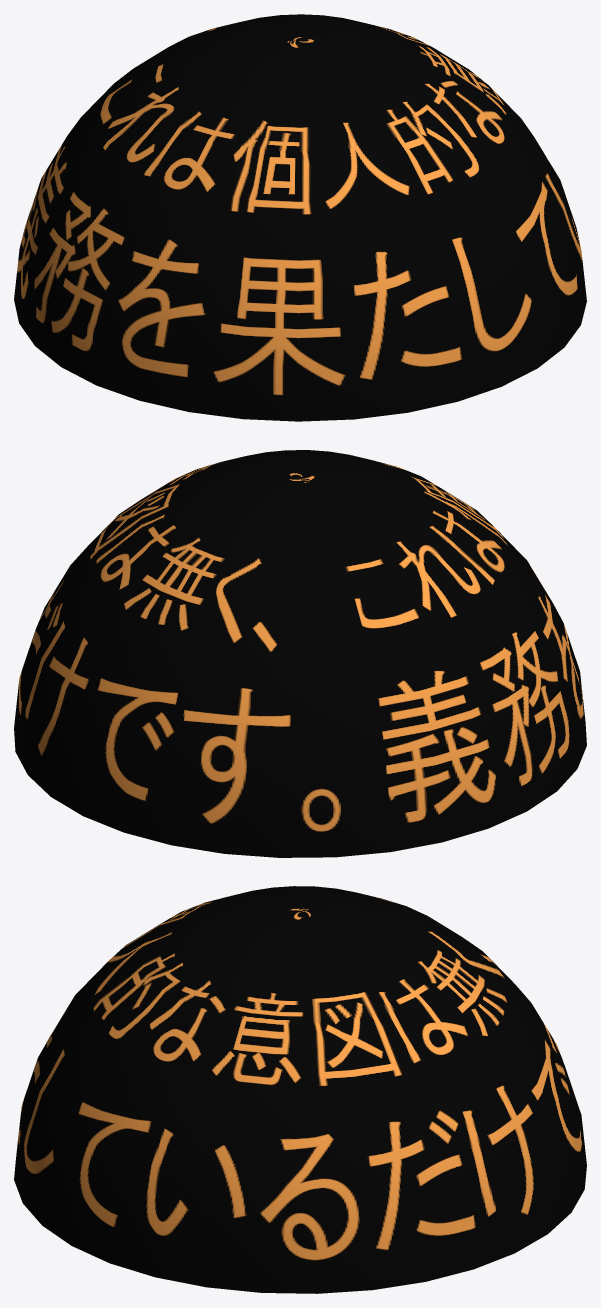
The model's file is 0503DOME.fbx.
The picture shows the model from 3 angles, top to bottom: view 1: azimuth 30°, elevation 25°; view 2: azimuth 150°, elevation 25°; view 3: azimuth 270°, elevation 25°; orthographic projection.
Visible parts, largest first — view 1: 球; view 2: 球; view 3: 球.
Part boxes in pixels (box(x1,y1,x2,y2)): 球: box(14, 14, 586, 421); 球: box(14, 450, 586, 857); 球: box(14, 886, 586, 1293).
Bounding box in the file's own units: 3.59 × 1.8 × 3.59.
2 materials, 2 textured.
